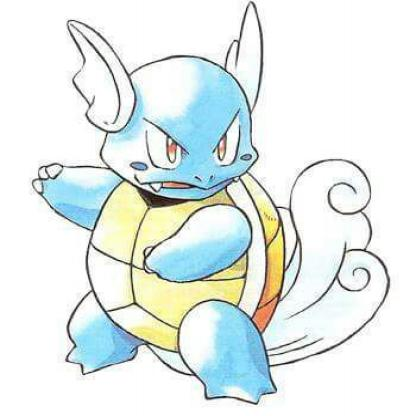Wartortle: (8, 1, 397, 416)
